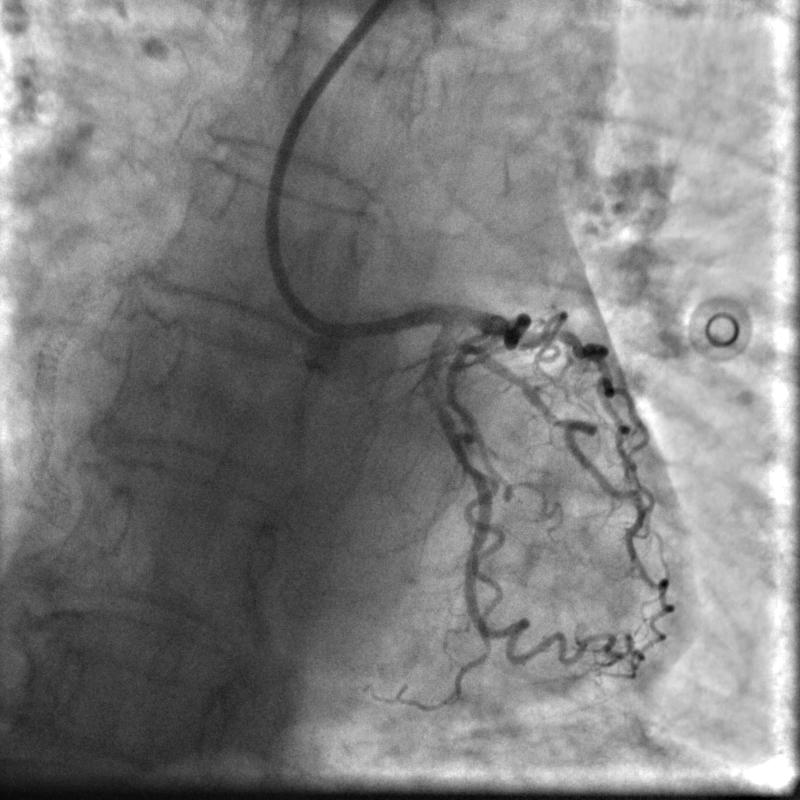Stenosis: (423, 374, 445, 408)
